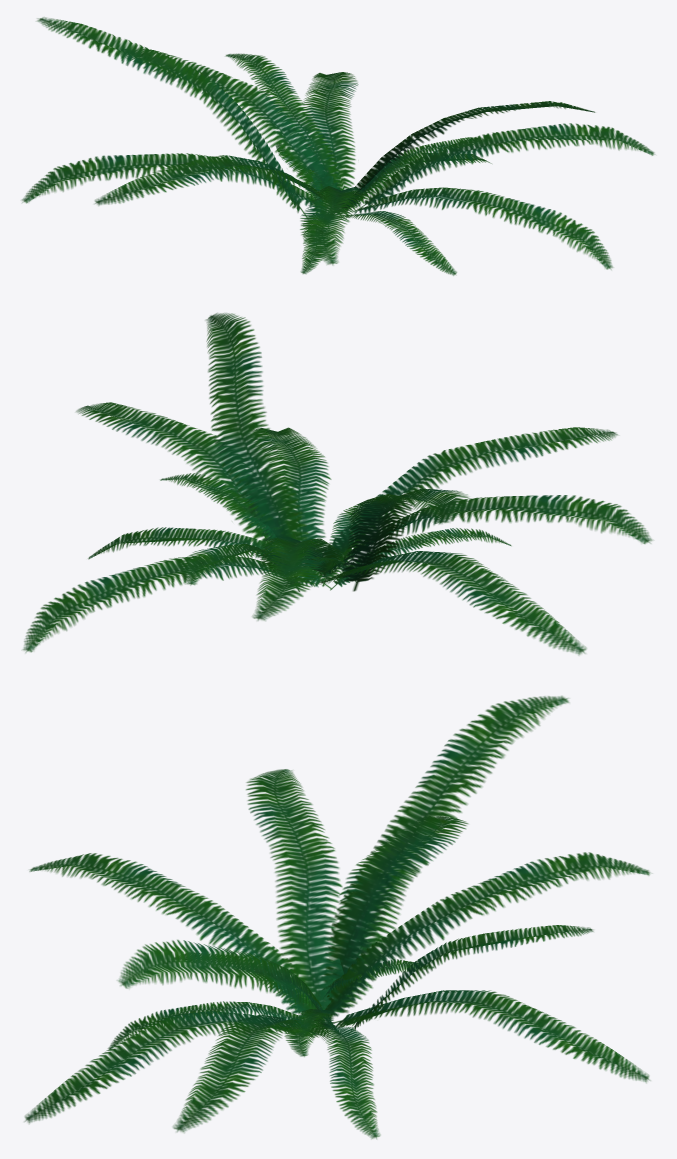
Rendered from fern-tall.lod0.glb.
3 renders of one model, top to bottom at view 1: azimuth 30°, elevation 25°; view 2: azimuth 150°, elevation 25°; view 3: azimuth 270°, elevation 25°, orthographic. The views are drawn at different scales.
Parts seen in each view (by area): view 1: SM_Fern_02_Ferns_0; view 2: SM_Fern_02_Ferns_0; view 3: SM_Fern_02_Ferns_0.
Part boxes in pixels (x1=…): SM_Fern_02_Ferns_0: x1=22, y1=17, x2=654, y2=275; SM_Fern_02_Ferns_0: x1=22, y1=313, x2=652, y2=655; SM_Fern_02_Ferns_0: x1=24, y1=696, x2=650, y2=1139.
Size of the model in its own units: 3.07 by 0.9829 by 2.61.
1 material, 1 textured.
